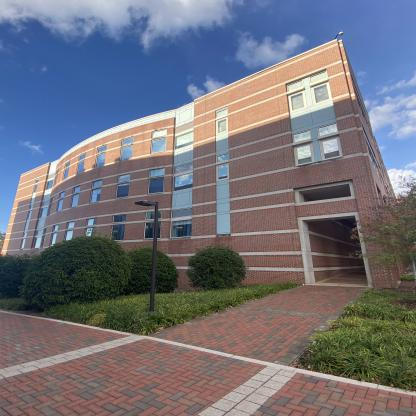EB-1: (15, 72, 408, 289)
